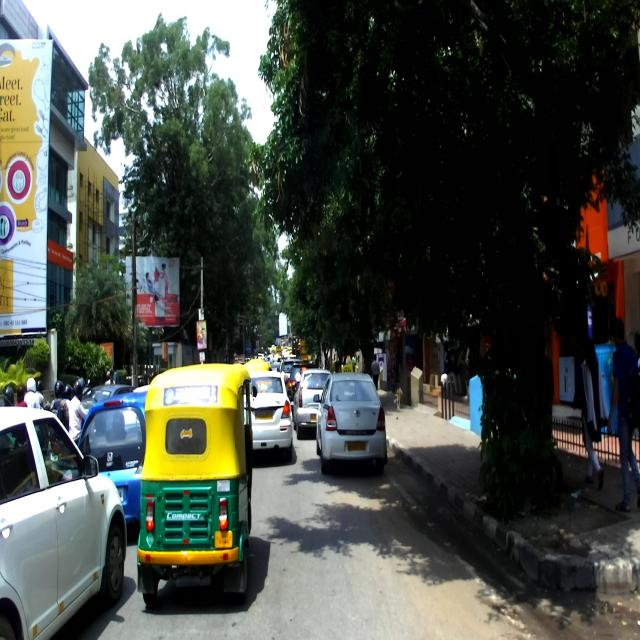autorickshaw: (136, 362, 258, 606)
car: (0, 406, 127, 639), (313, 372, 387, 474), (241, 368, 294, 461), (294, 368, 333, 439)
